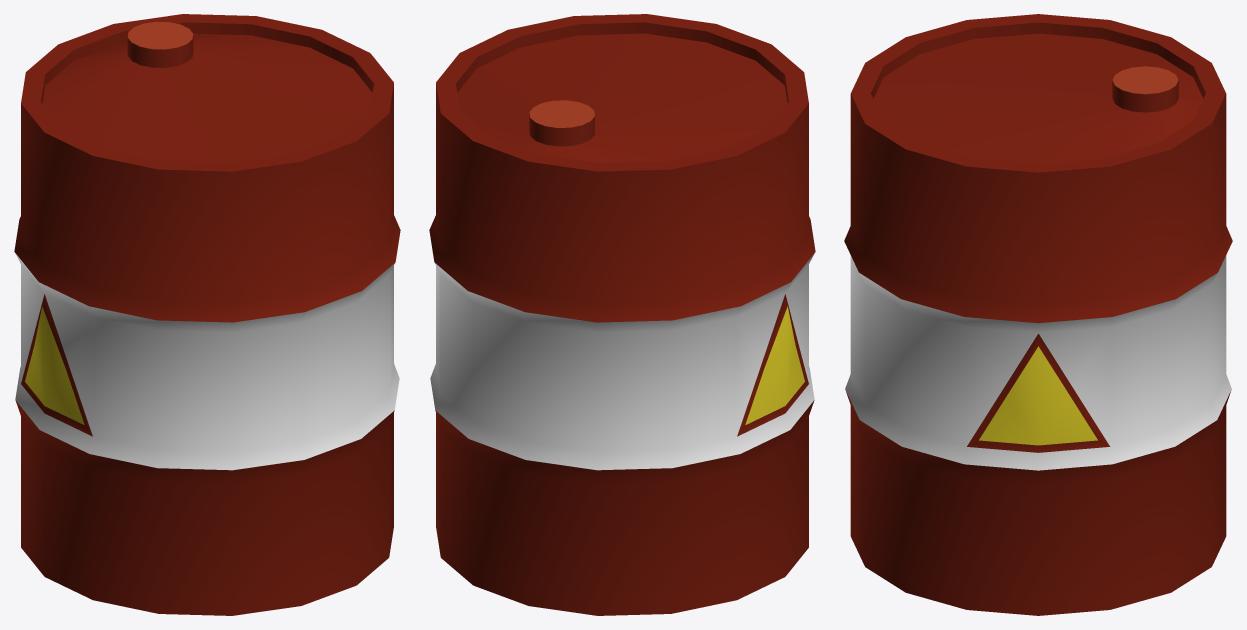
The model's file is barrel.glb.
3 views of the same model, side by side, from view 1: azimuth 30°, elevation 25°; view 2: azimuth 150°, elevation 25°; view 3: azimuth 270°, elevation 25° (orthographic).
Parts seen in each view (by area): view 1: Cylinder; view 2: Cylinder; view 3: Cylinder.
Boxes of the visible parts, x1=… form: Cylinder: x1=14, y1=14, x2=400, y2=615; Cylinder: x1=429, y1=14, x2=815, y2=615; Cylinder: x1=844, y1=14, x2=1232, y2=615.
Bounding box in the file's own units: 1.29 × 1.68 × 1.29.
1 material, 1 textured.
